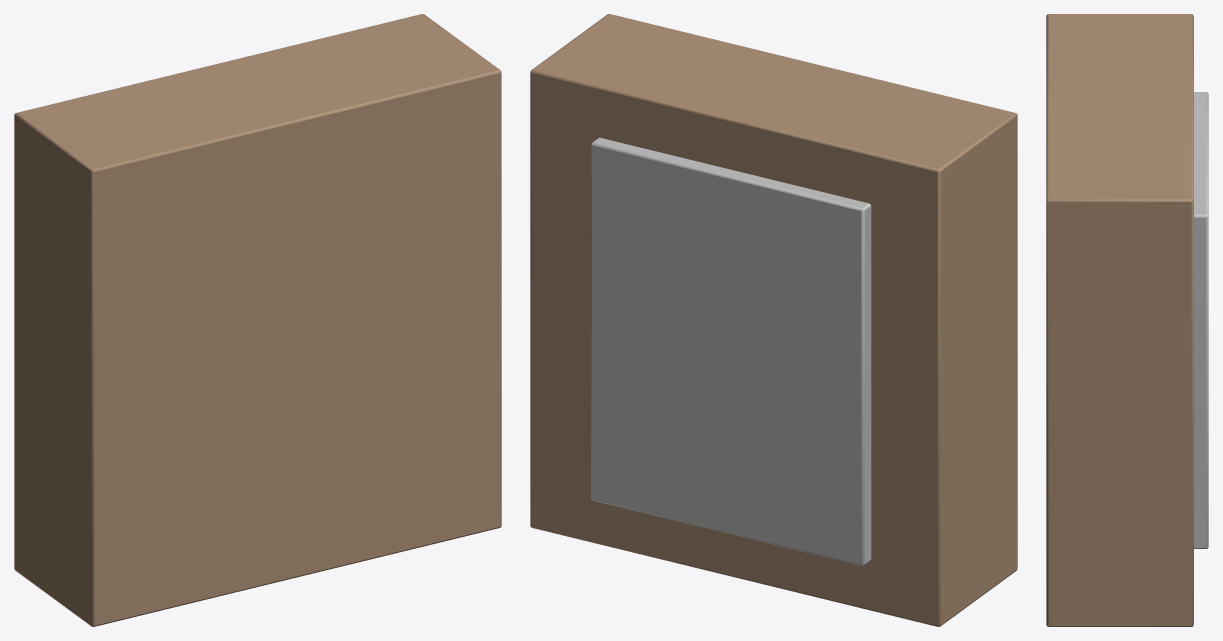
File: SM_EQP_SCAVENGER_COMPOSITE_VEST.fbx
The picture shows the model from 3 angles, left to right: view 1: azimuth 30°, elevation 25°; view 2: azimuth 150°, elevation 25°; view 3: azimuth 270°, elevation 25°; orthographic projection. The views are drawn at different scales.
Parts seen in each view (by area): view 1: SM_EQP_SCAVENGER_COMPOSITE_VEST; view 2: SM_EQP_SCAVENGER_COMPOSITE_VEST; view 3: SM_EQP_SCAVENGER_COMPOSITE_VEST.
Part boxes in pixels (left/top/right/bottom): SM_EQP_SCAVENGER_COMPOSITE_VEST: left=14, top=14, right=501, bottom=626; SM_EQP_SCAVENGER_COMPOSITE_VEST: left=530, top=14, right=1017, bottom=626; SM_EQP_SCAVENGER_COMPOSITE_VEST: left=1046, top=14, right=1208, bottom=626.
Size of what is drawn, in the model's own units: 0.3 by 0.32 by 0.11.
